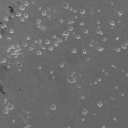corrosion: (9, 45, 22, 57), (2, 103, 16, 114), (49, 103, 58, 111), (81, 107, 89, 116), (62, 2, 70, 10), (108, 18, 116, 26), (78, 8, 86, 16), (19, 4, 27, 12), (96, 100, 103, 108), (97, 45, 104, 53), (95, 29, 103, 36), (67, 18, 75, 25), (1, 56, 7, 65), (35, 18, 42, 25), (36, 49, 43, 56), (62, 31, 70, 37), (25, 34, 31, 42), (41, 10, 47, 18), (71, 47, 77, 54), (76, 33, 82, 40), (35, 39, 42, 45), (9, 28, 15, 34), (58, 18, 64, 24), (115, 46, 121, 52), (3, 16, 9, 22), (58, 63, 64, 69), (95, 19, 101, 25), (112, 116, 118, 122), (23, 14, 30, 19), (45, 39, 50, 45), (81, 49, 87, 54), (1, 23, 6, 29), (53, 41, 58, 47), (49, 70, 54, 76), (80, 21, 85, 27), (80, 94, 85, 100), (36, 65, 41, 70), (120, 92, 125, 97), (115, 36, 120, 41), (118, 11, 123, 16), (52, 34, 57, 39), (97, 77, 101, 82), (111, 63, 115, 68)
